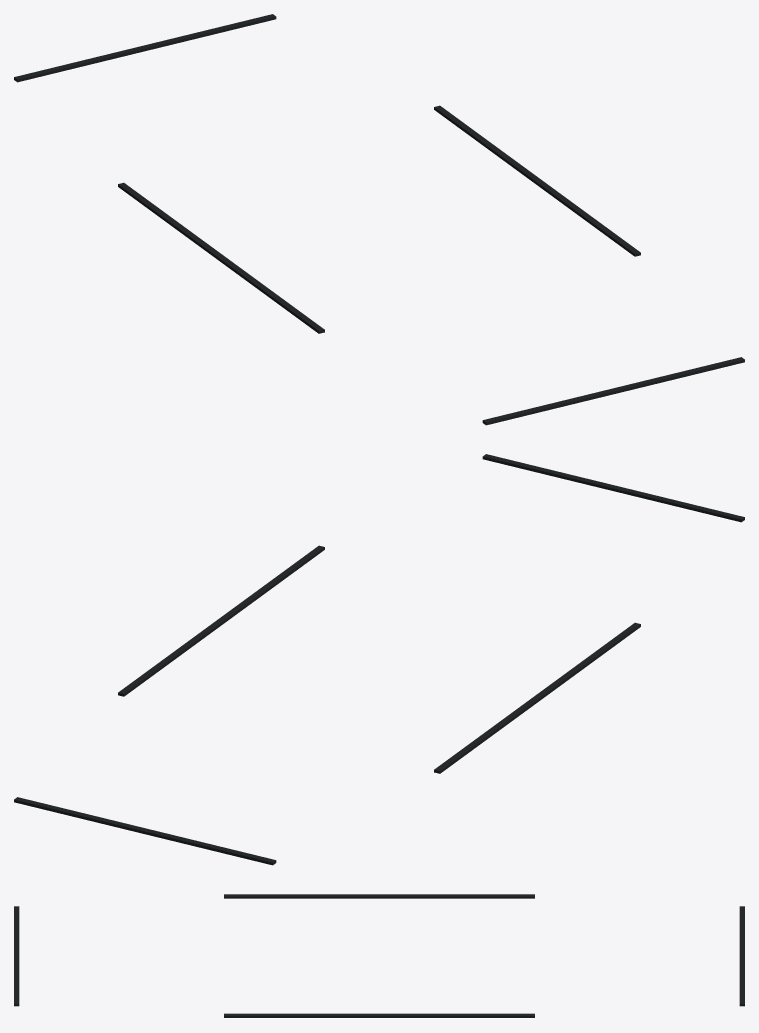
Rendered from underglow_white.glb.
3 renders of one model, top to bottom at view 1: azimuth 30°, elevation 25°; view 2: azimuth 150°, elevation 25°; view 3: azimuth 270°, elevation 25°, orthographic. The views are drawn at different scales.
Visible parts, largest first — view 1: model; view 2: model; view 3: model.
Boxes of the visible parts, left/top/right/bottom form: model: left=14, top=14, right=744, bottom=425; model: left=14, top=454, right=744, bottom=865; model: left=14, top=894, right=744, bottom=1018.
Size of the model in its own units: 1.49 by 0.018 by 3.78.
2 materials, 1 textured.
